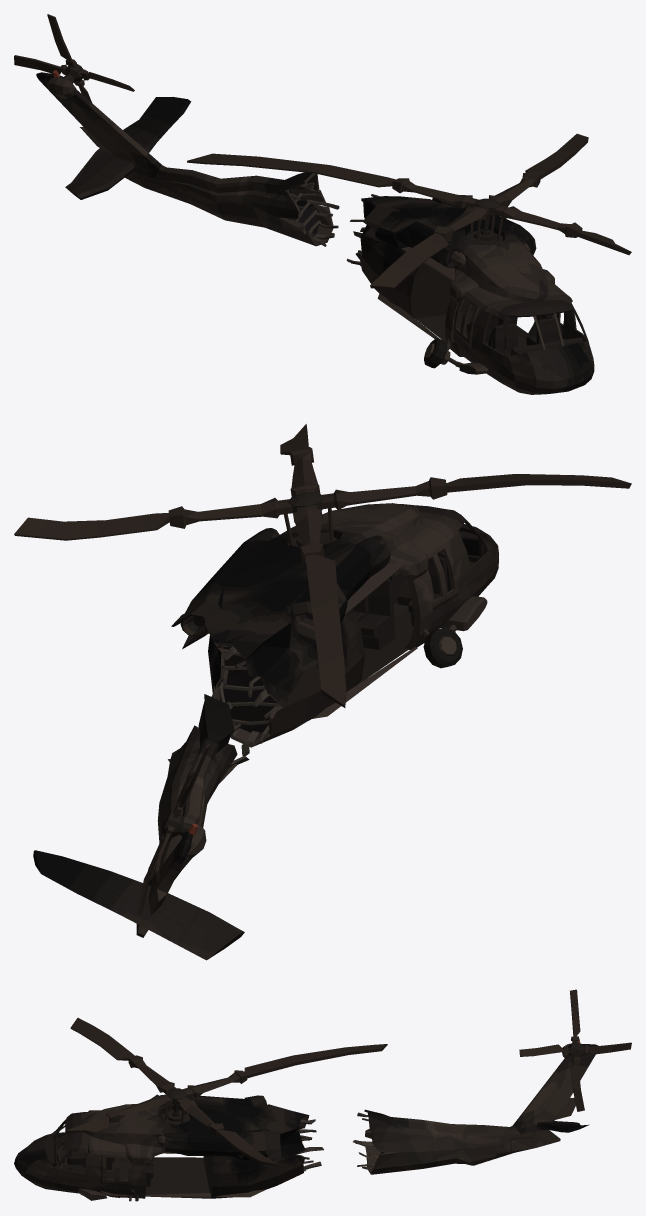
File: SM_Veh_Helicopter_Transport_01_Destroyed.fbx
The picture shows the model from 3 angles, top to bottom: view 1: azimuth 30°, elevation 25°; view 2: azimuth 150°, elevation 25°; view 3: azimuth 270°, elevation 25°; orthographic projection. The views are drawn at different scales.
Parts seen in each view (by area): view 1: SM_Veh_Helicopter_Transport_01_Destroyed; view 2: SM_Veh_Helicopter_Transport_01_Destroyed; view 3: SM_Veh_Helicopter_Transport_01_Destroyed.
Boxes of the visible parts, <box> form: SM_Veh_Helicopter_Transport_01_Destroyed: <box>14,14,631,394</box>; SM_Veh_Helicopter_Transport_01_Destroyed: <box>14,424,631,960</box>; SM_Veh_Helicopter_Transport_01_Destroyed: <box>14,989,631,1201</box>.
Bounding box in the file's own units: 880 × 439 × 1794.
